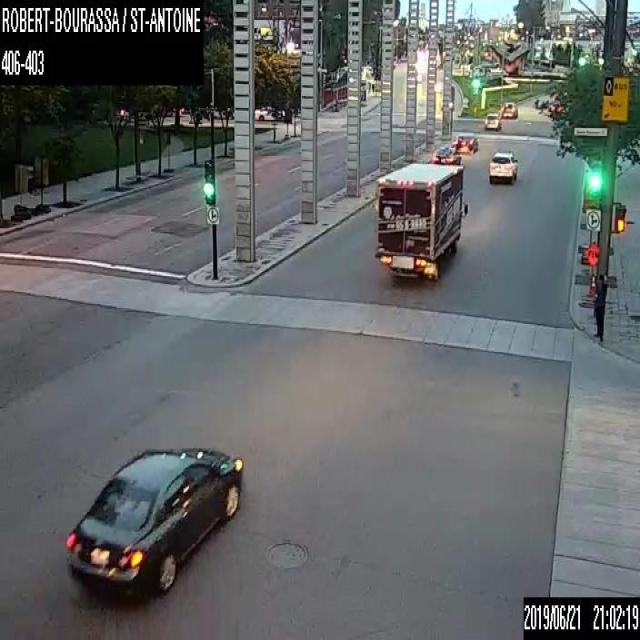construction: (584, 242, 598, 300)
pedestrian: (592, 274, 609, 342)
vehicle: (65, 445, 243, 603), (374, 161, 467, 279), (487, 149, 518, 184), (433, 146, 461, 164), (454, 134, 478, 153), (484, 111, 500, 128), (501, 101, 517, 117)
